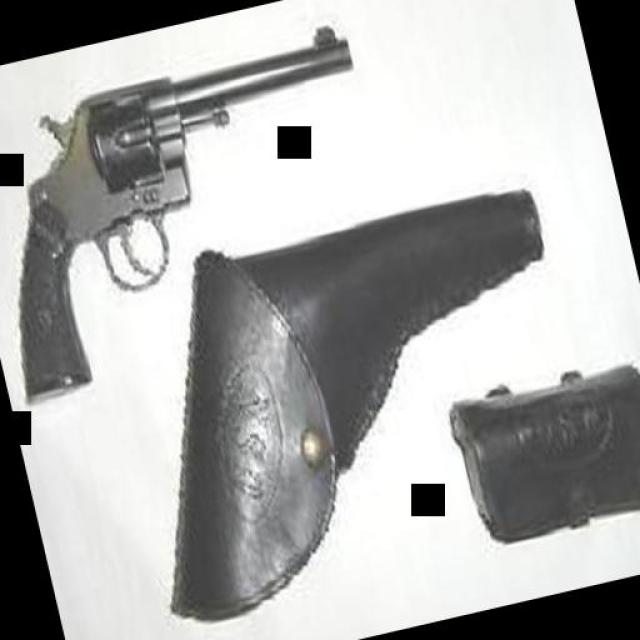gun: (0, 14, 408, 398)
